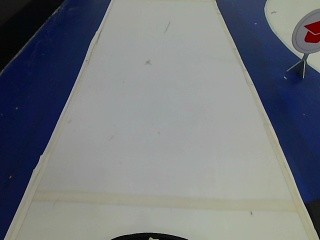school: (293, 12, 318, 57)
